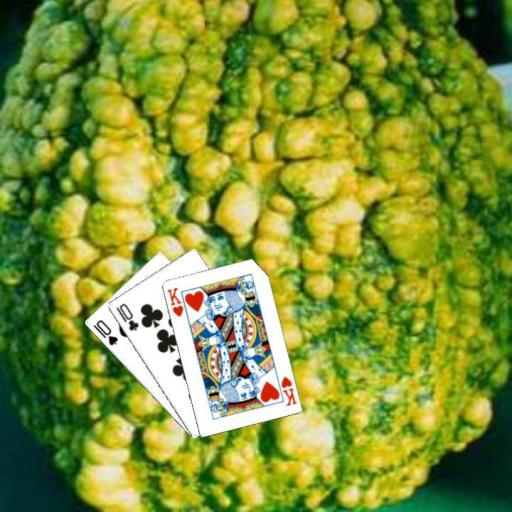10C: (112, 300, 140, 332)
10S: (90, 316, 120, 347)
KH: (163, 284, 185, 318), (278, 373, 298, 408)
